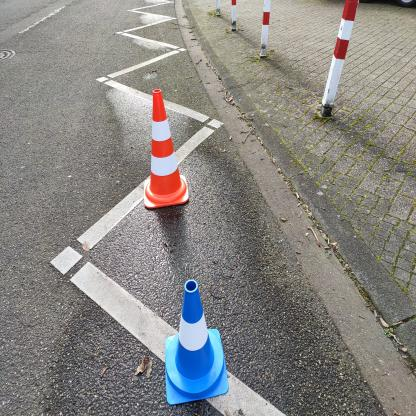Cones_big: (134, 87, 197, 210)
Cones_small_blue: (149, 276, 233, 406)
